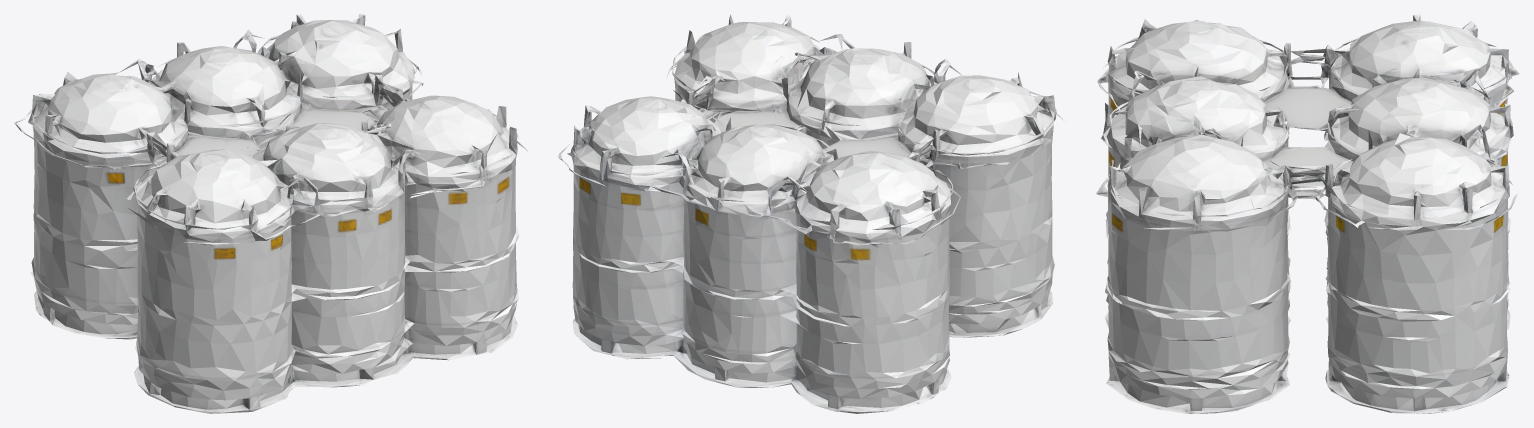
The model's file is Tanques.fbx.
3 renders of one model, left to right at view 1: azimuth 30°, elevation 25°; view 2: azimuth 150°, elevation 25°; view 3: azimuth 270°, elevation 25°, orthographic. The views are drawn at different scales.
Parts seen in each view (by area): view 1: temp; view 2: temp; view 3: temp.
Boxes of the visible parts, left/top/right/bottom form: temp: left=14, top=14, right=528, bottom=413; temp: left=558, top=14, right=1065, bottom=413; temp: left=1096, top=14, right=1519, bottom=413.
Bounding box in the file's own units: 199 × 116 × 189.
1 material, 1 textured.
